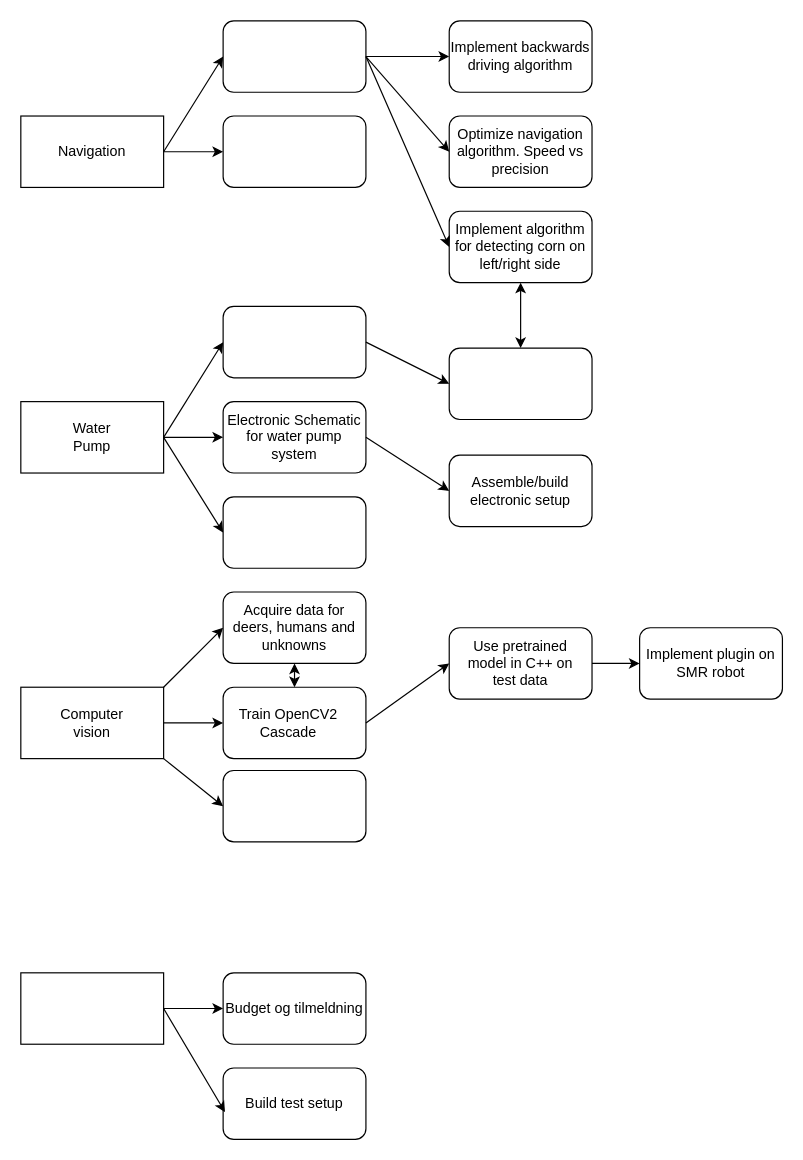
The diagram is 803 pixels wide and 1160 high, and some of its shapes have lost their labels. The centre of each missing label's shape, as x and y in pixels:
"3D print/ build case for water pump sysyem." goes at (294,532).
"Algoritme: Hvad findes allerede og hvad skal skrives" goes at (294,56).
"Assess cameras" goes at (294,805).
"Implement GPIO for water pump" goes at (520,383).
"Lidar kommunikation / Verificer dobbelt laser scan" goes at (294,151).
"Misc." goes at (92,1008).
"What is flashed on the teensy" goes at (294,341).
